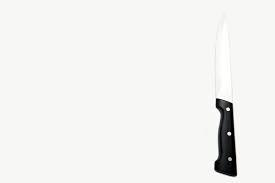Knife: (213, 11, 237, 176)
